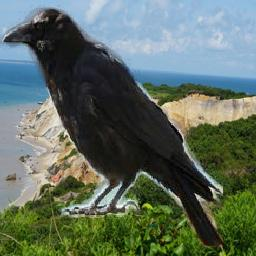Crow: (1, 5, 224, 247)
